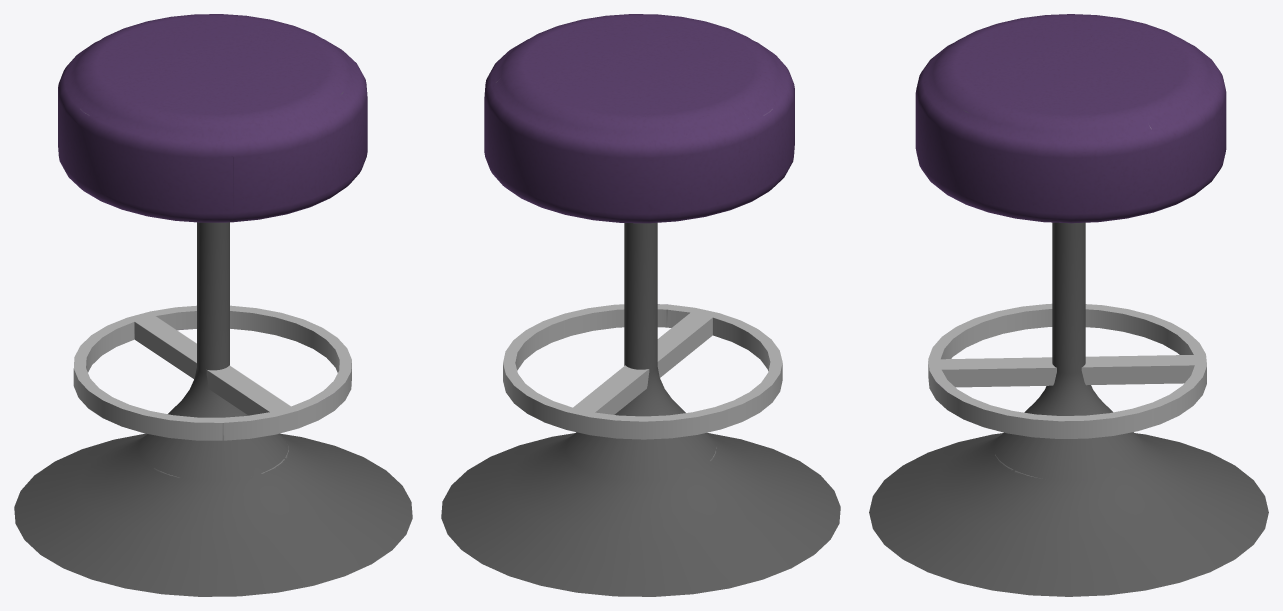
Rendered from KitchenBarStoolCushion.fbx.
3 renders of one model, left to right at view 1: azimuth 30°, elevation 25°; view 2: azimuth 150°, elevation 25°; view 3: azimuth 270°, elevation 25°, orthographic.
Parts seen in each view (by area): view 1: KitchenBarStoolCushion_Baked; view 2: KitchenBarStoolCushion_Baked; view 3: KitchenBarStoolCushion_Baked.
Part boxes in pixels (box(x1,y1,x2,y2)): KitchenBarStoolCushion_Baked: box(14, 14, 412, 596); KitchenBarStoolCushion_Baked: box(441, 14, 840, 596); KitchenBarStoolCushion_Baked: box(869, 14, 1268, 596).
Bounding box in the file's own units: 67.47 × 83.19 × 67.47.
Materials: 1 (1 with a texture image).
